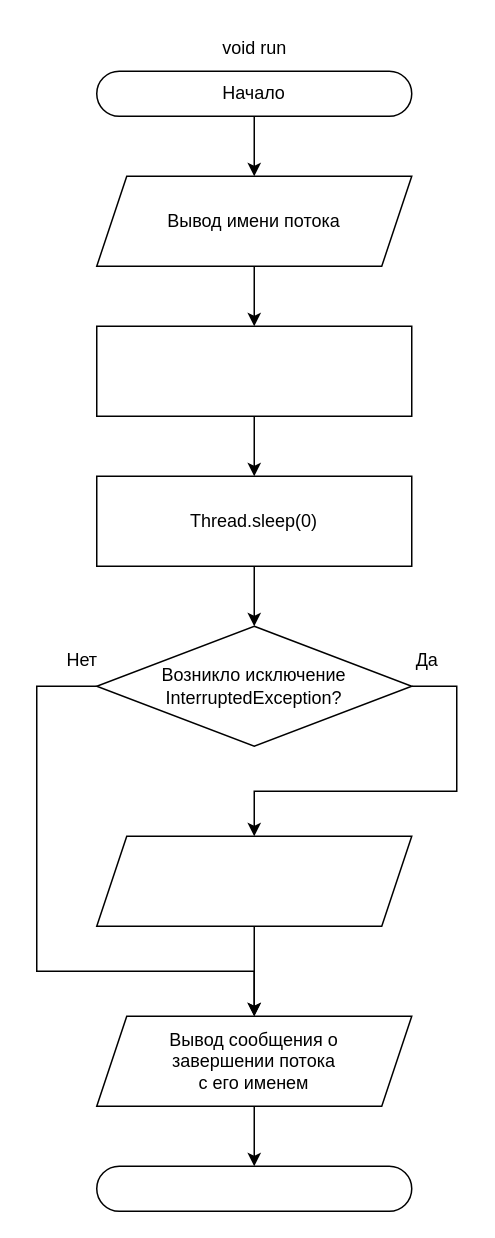
This 495x1238 diagram has some shape labels left out. Each missing label, with the box of its shape:
Вывод сообщения о прерванном потоке и его имени: (95, 835, 412, 926)
Вычисление логарифма: (95, 325, 412, 416)
Конец: (95, 1165, 412, 1211)
